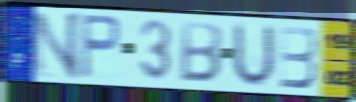3: (138, 18, 173, 84)
B: (177, 19, 225, 85), (278, 25, 318, 91)
N: (29, 11, 84, 81)
P: (79, 12, 123, 81)
U: (230, 21, 277, 89)
